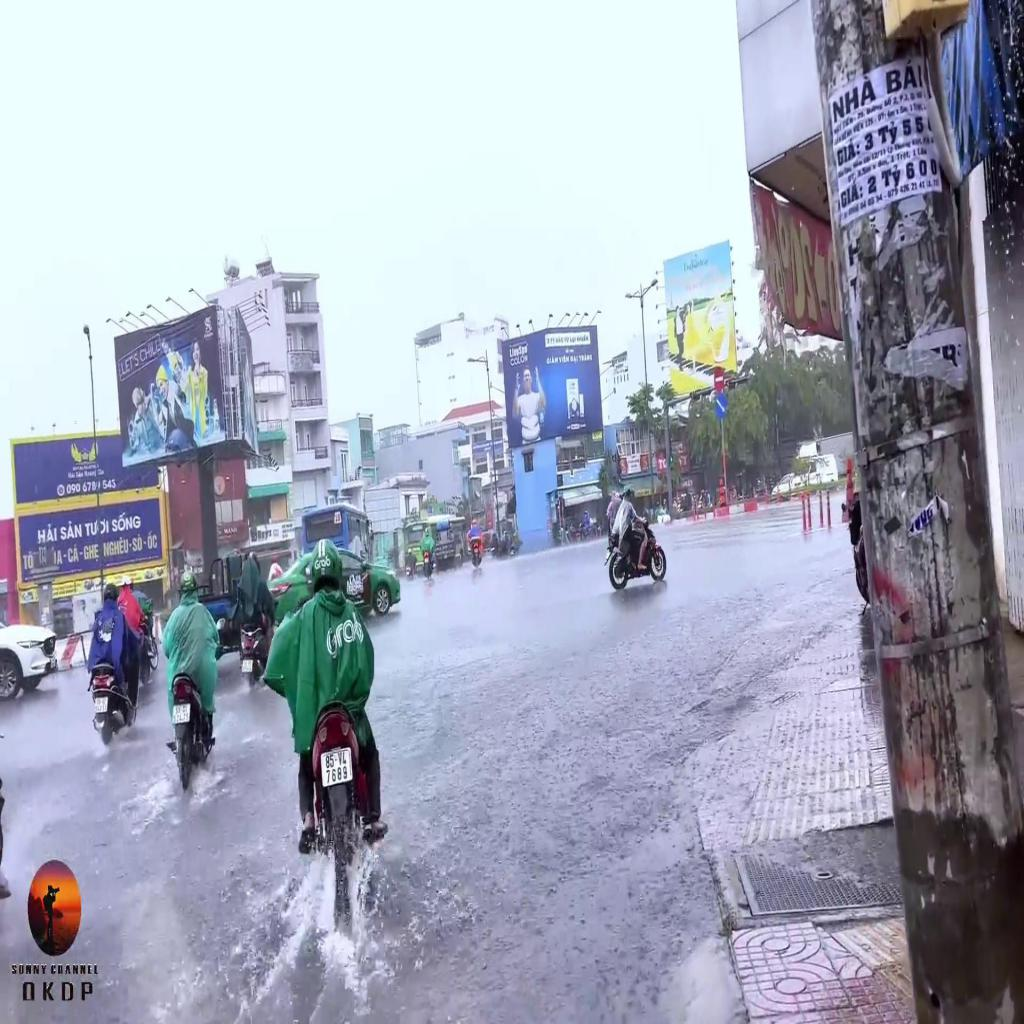cam_xe_di_nguoc_chieu: (713, 366, 724, 391)
huong_phai_di_vuot_chuong_ngai_vat_phai: (715, 393, 726, 416)
